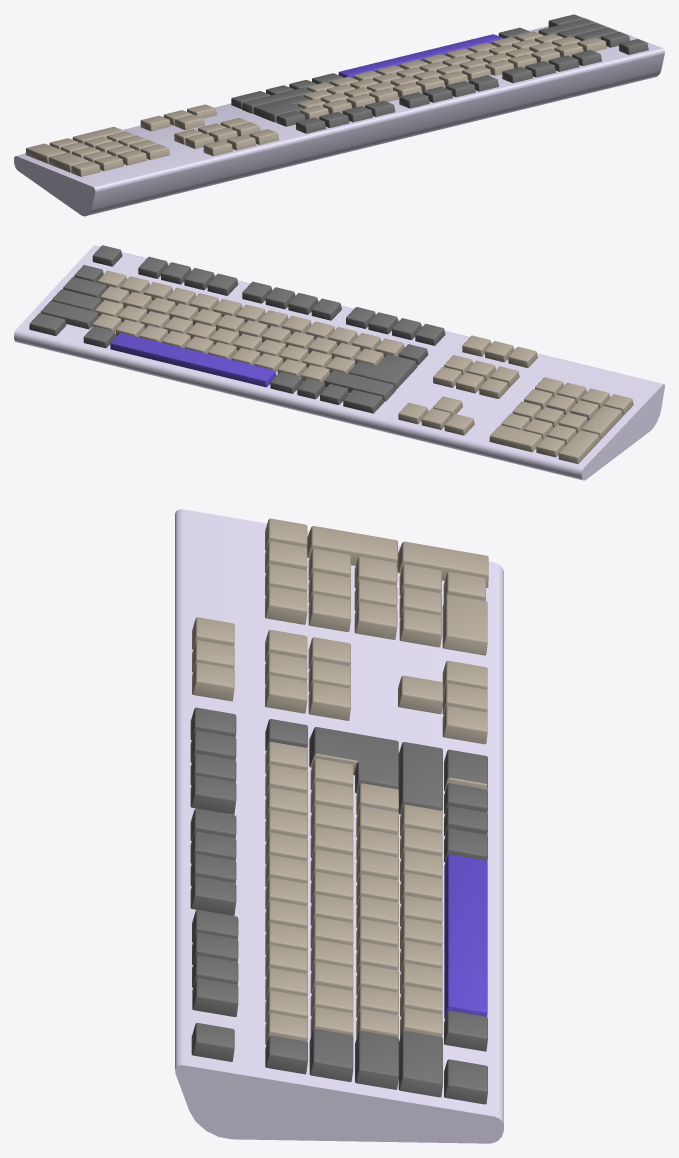
The model's file is KeyboardMod.glb.
3 renders of one model, top to bottom at view 1: azimuth 30°, elevation 25°; view 2: azimuth 150°, elevation 25°; view 3: azimuth 270°, elevation 25°, orthographic. The views are drawn at different scales.
Visible parts, largest first — view 1: Keyboard; view 2: Keyboard; view 3: Keyboard.
Boxes of the visible parts, x1=… form: Keyboard: x1=14, y1=14, x2=664, y2=216; Keyboard: x1=14, y1=245, x2=664, y2=480; Keyboard: x1=175, y1=509, x2=503, y2=1143.
Size of the model in its own units: 3.23 by 0.2495 by 0.8087.
